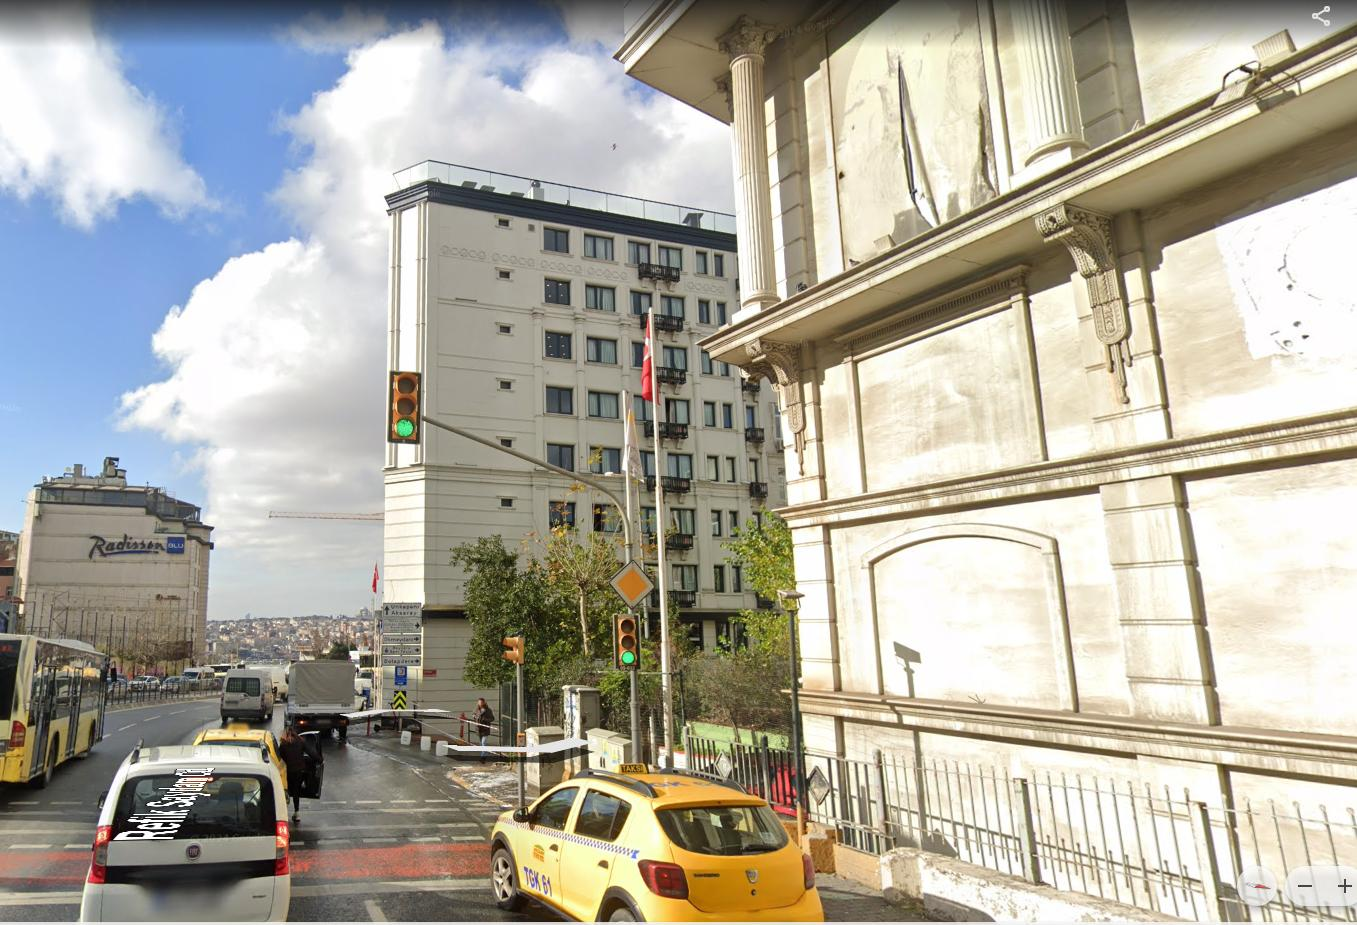greenlight: (383, 364, 429, 451), (610, 612, 643, 671)
